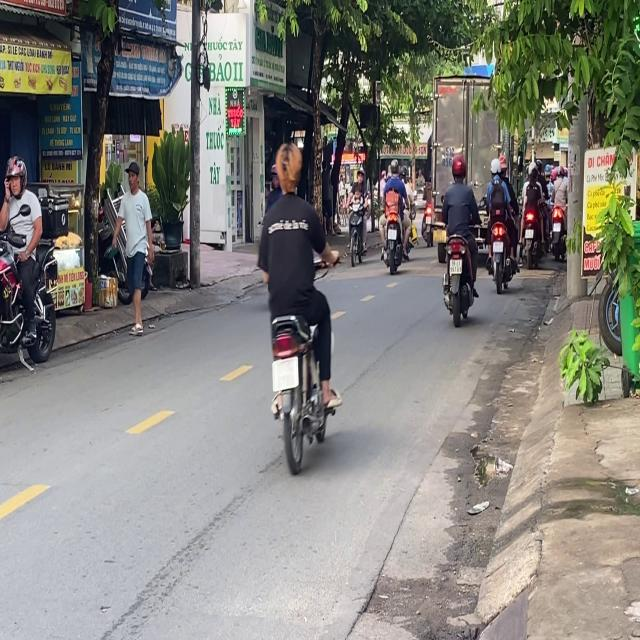helmet: (4, 156, 25, 197), (450, 152, 466, 180)
licenseplate: (255, 137, 341, 470), (0, 155, 58, 377), (439, 151, 480, 324)
motorcyclist: (273, 140, 303, 195)
nohelmet: (272, 357, 298, 391), (449, 258, 462, 274)
